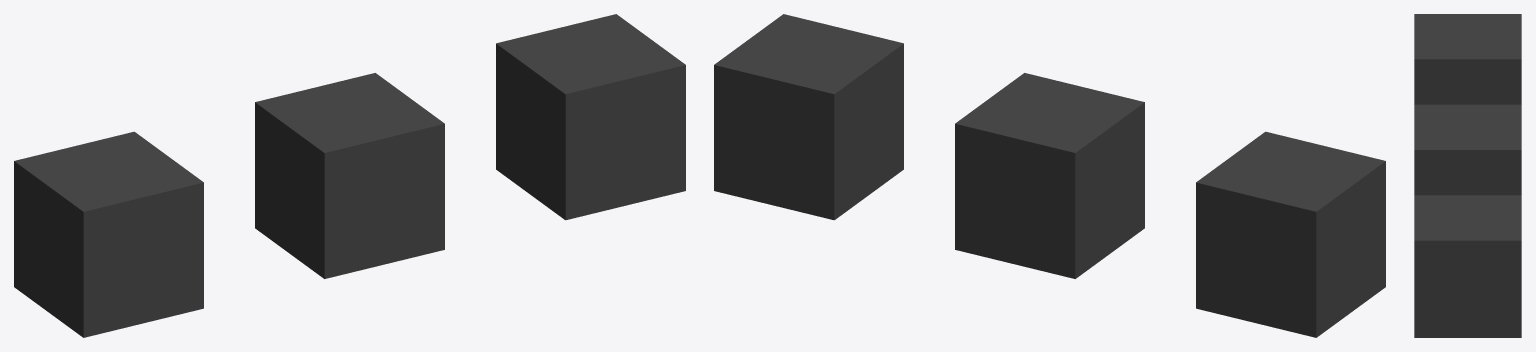
Rendered from buglegleft.vox.obj.
3 renders of one model, left to right at view 1: azimuth 30°, elevation 25°; view 2: azimuth 150°, elevation 25°; view 3: azimuth 270°, elevation 25°, orthographic. The views are drawn at different scales.
Size of the model in its own units: 0.5 by 0.1 by 0.1.
Materials: 1 (1 with a texture image).
